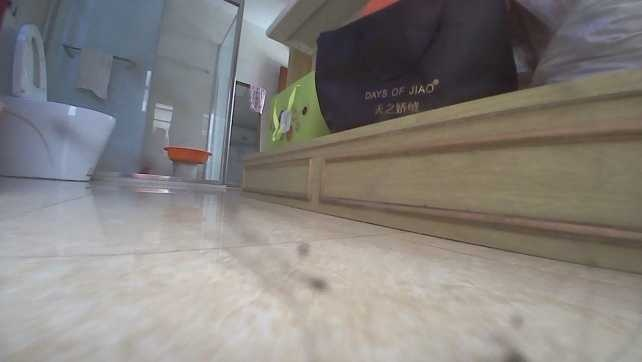door_sill: (130, 170, 223, 187)
toilet: (2, 21, 115, 182)
